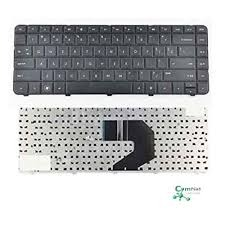keyboard: (12, 21, 213, 93), (14, 105, 213, 175)
